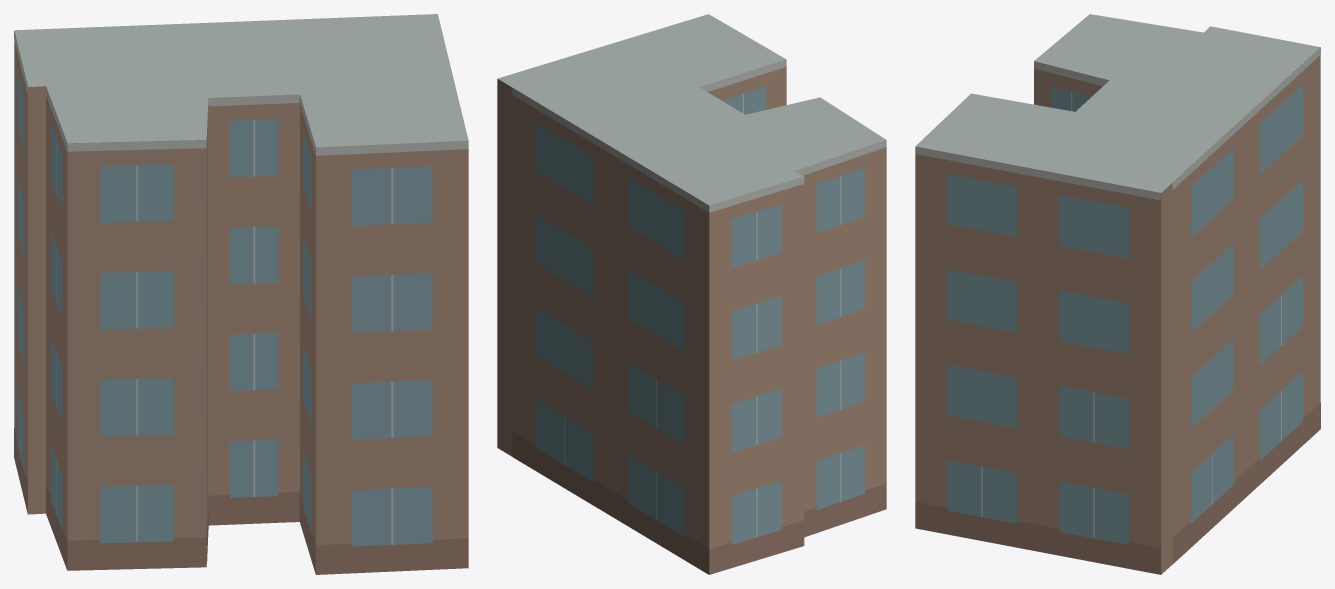
Rendered from survey-upis-32472131.glb.
3 renders of one model, left to right at view 1: azimuth 30°, elevation 25°; view 2: azimuth 150°, elevation 25°; view 3: azimuth 270°, elevation 25°, orthographic. The views are drawn at different scales.
Parts seen in each view (by area): view 1: survey-upis-32472131.tmp; view 2: survey-upis-32472131.tmp; view 3: survey-upis-32472131.tmp.
Boxes of the visible parts, left/top/right/bottom form: survey-upis-32472131.tmp: left=14, top=14, right=468, bottom=574; survey-upis-32472131.tmp: left=497, top=14, right=886, bottom=574; survey-upis-32472131.tmp: left=915, top=14, right=1320, bottom=574.
Bounding box in the file's own units: 12.47 × 12.4 × 11.94.
